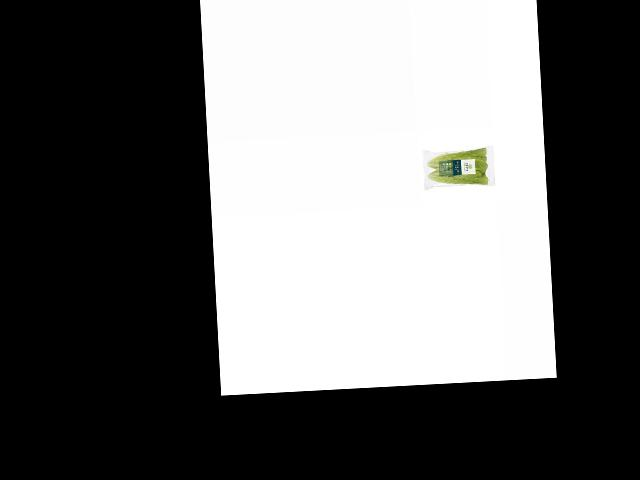lettuce: (425, 147, 491, 192)
